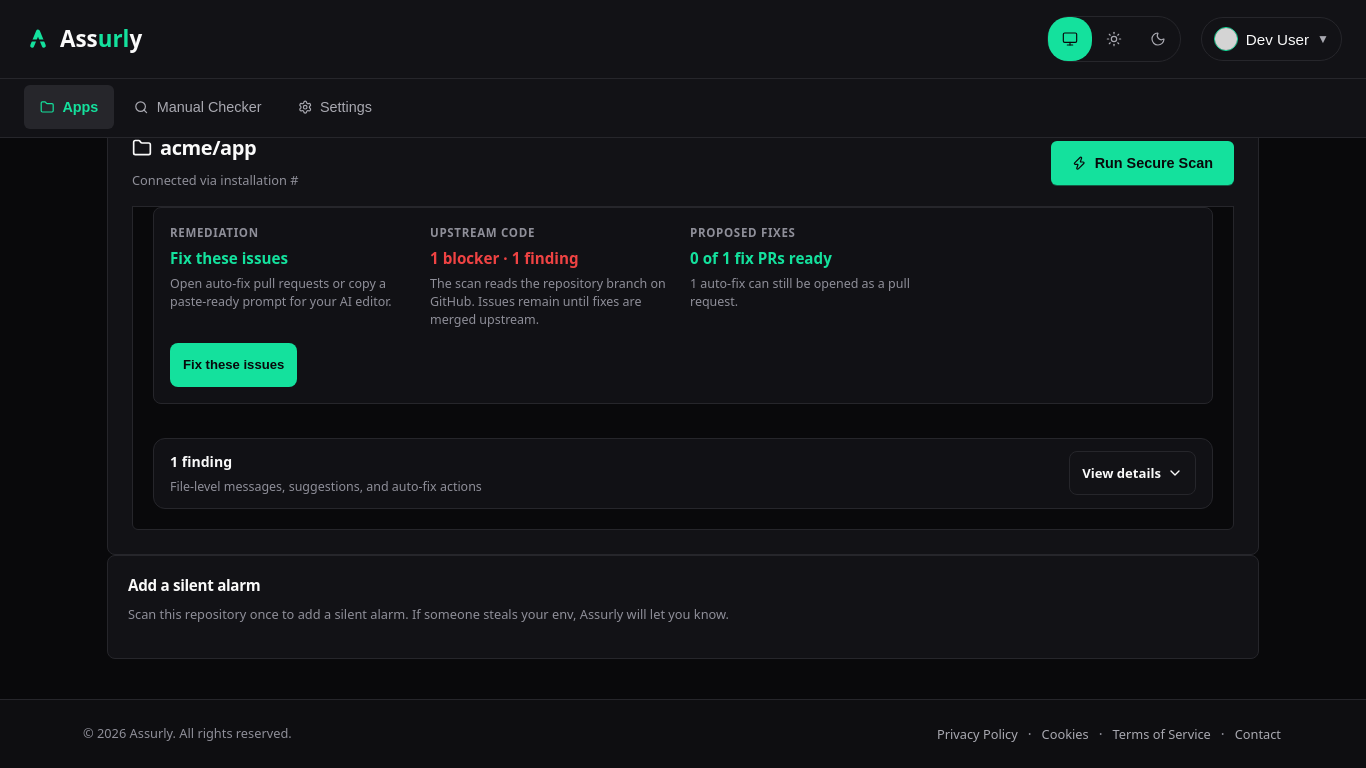
Test: Auto-fix PR — handleCreateFixPr › forwards the error message for generic Error instances
This screenshot has width=1366, height=768.
(page scrolled)
Click the heading with test id "scan-findings-details-toggle" at (201,462), box [154,439,1212,508]
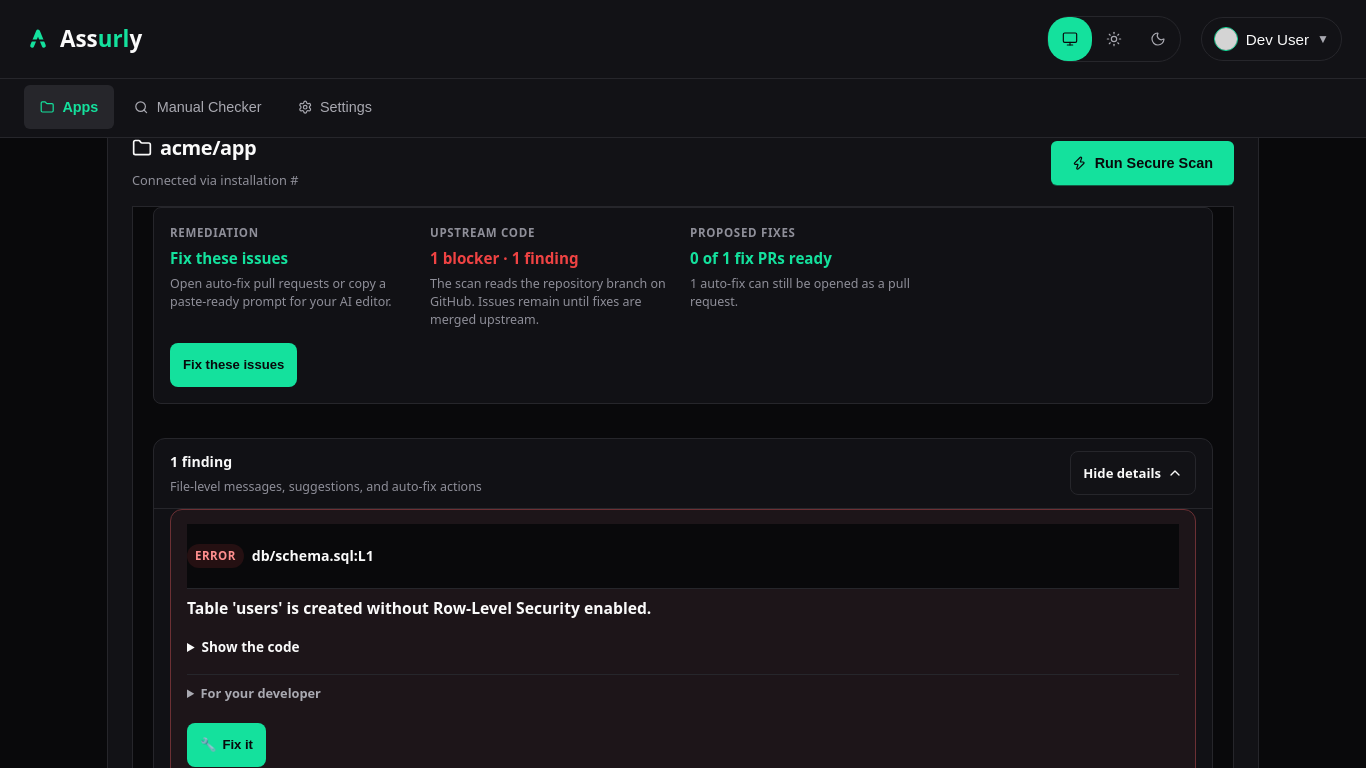
Check: the button "🔧 Fix it" is shown
Click the button "🔧 Fix it" at (226,745), box [187,723,266,767]
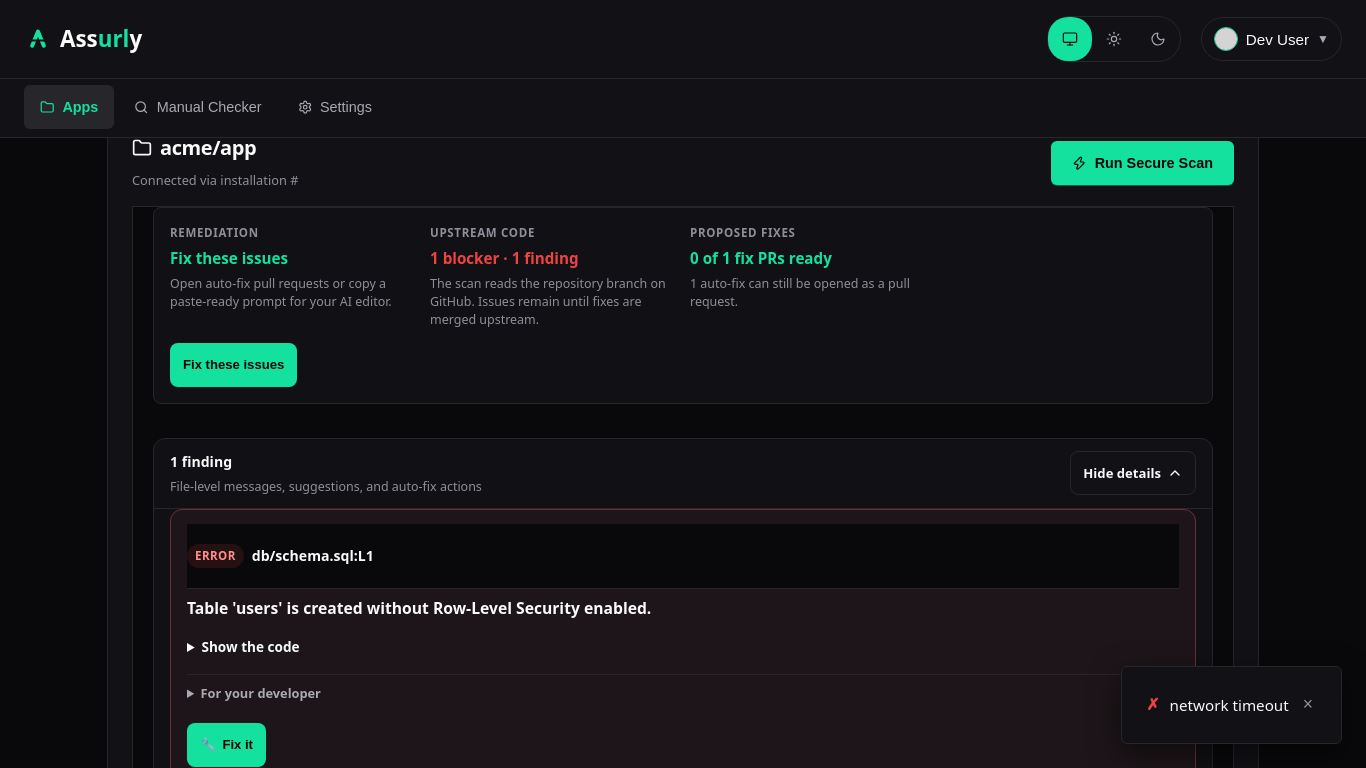
Check: the message shows "network timeout", box [1170,695,1289,715]
